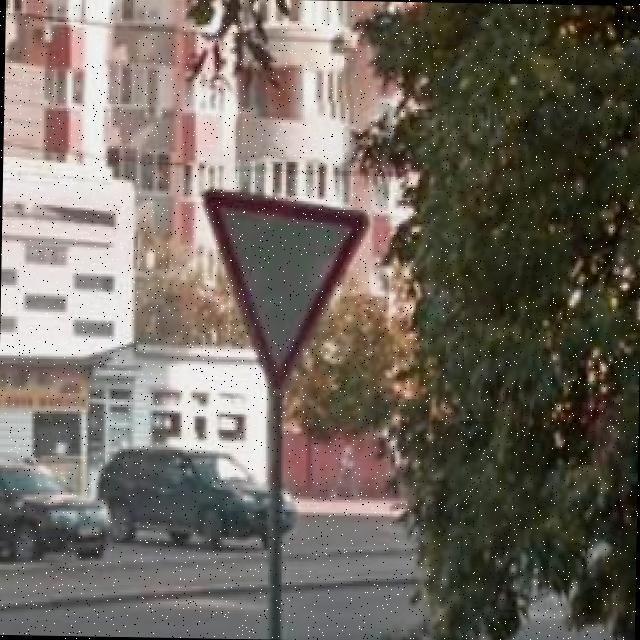Ustap pierwszenstwa: (192, 186, 372, 396)
